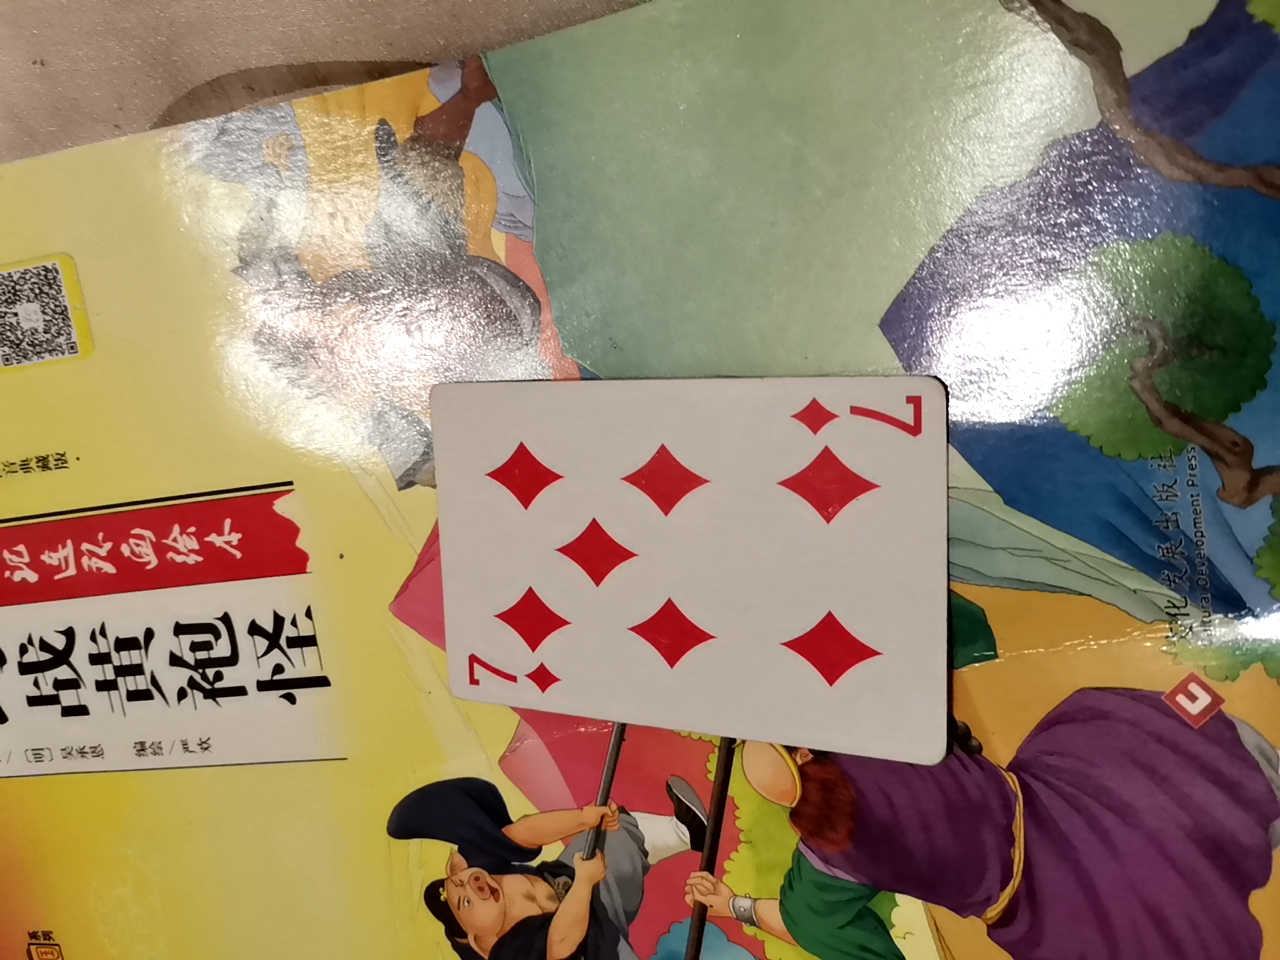fk 7: (421, 357, 952, 760)
